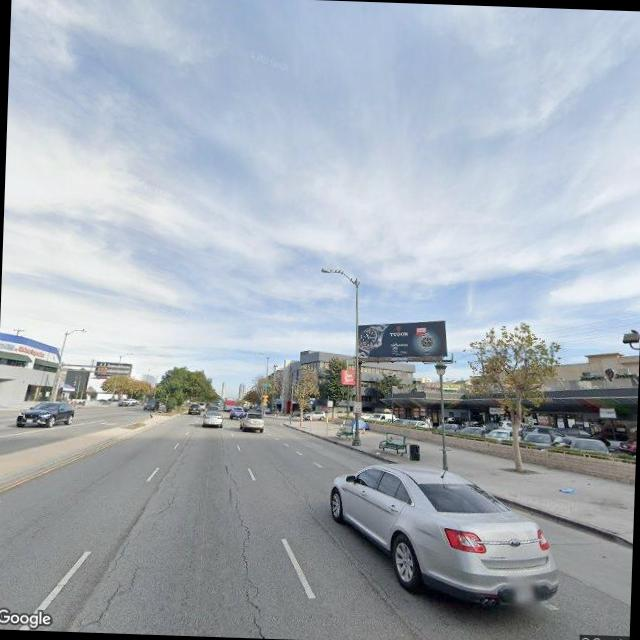pothole: (62, 473, 179, 634), (214, 463, 283, 638)
